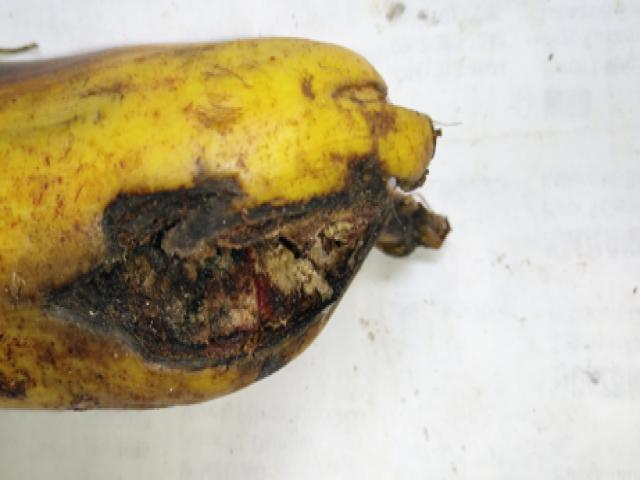ripe: (0, 19, 352, 203)
rotten: (49, 143, 446, 406)
